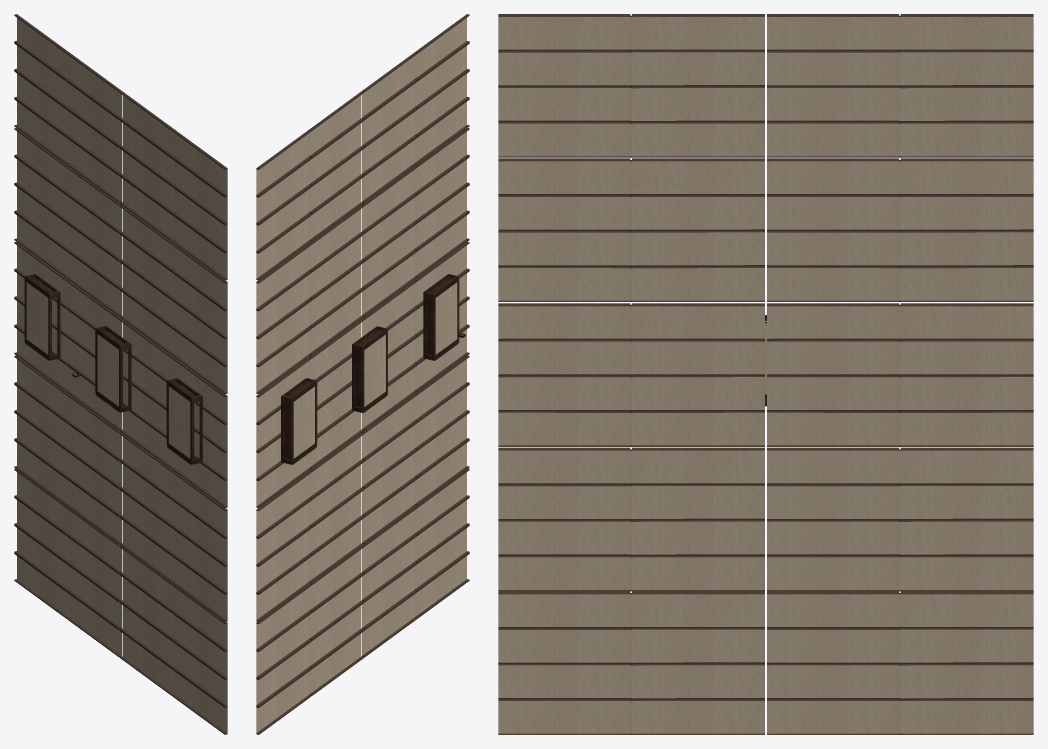
The model's file is ESCENARIO PARA UNITY.fbx.
The picture shows the model from 3 angles, left to right: view 1: azimuth 30°, elevation 25°; view 2: azimuth 150°, elevation 25°; view 3: azimuth 270°, elevation 25°; orthographic projection. The views are drawn at different scales.
Parts seen in each view (by area): view 1: Techo; view 2: Techo; view 3: Techo.
Part boxes in pixels (x1=…): Techo: x1=14, y1=14, x2=227, y2=734; Techo: x1=256, y1=14, x2=469, y2=734; Techo: x1=498, y1=14, x2=1033, y2=734.
Bounding box in the file's own units: 106387 × 761083 × 513287.
17 materials, 7 textured.
